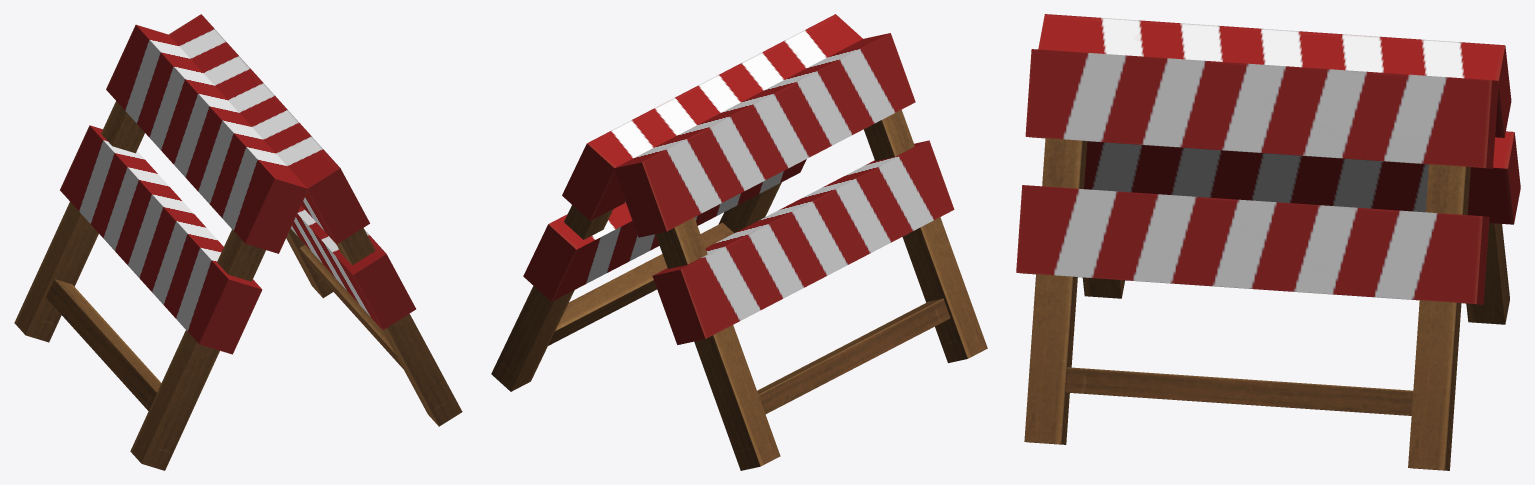
File: JianKongJieDao_01_luzhang_01.FBX
3 renders of one model, left to right at view 1: azimuth 30°, elevation 25°; view 2: azimuth 150°, elevation 25°; view 3: azimuth 270°, elevation 25°, orthographic. The views are drawn at different scales.
Parts seen in each view (by area): view 1: JianKongJieDao_01_luzhang_01; view 2: JianKongJieDao_01_luzhang_01; view 3: JianKongJieDao_01_luzhang_01.
Boxes of the visible parts, x1,y1,x2,y2 form: JianKongJieDao_01_luzhang_01: (14, 14, 462, 470); JianKongJieDao_01_luzhang_01: (491, 14, 987, 470); JianKongJieDao_01_luzhang_01: (1016, 14, 1520, 470).
Size of the model in its own units: 285 by 224 by 304.
